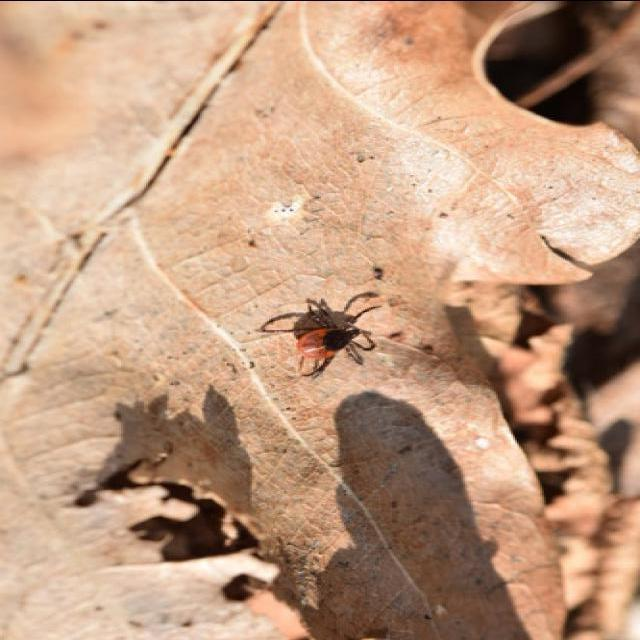Ixodes Ricinus-F: (263, 298, 379, 379)
